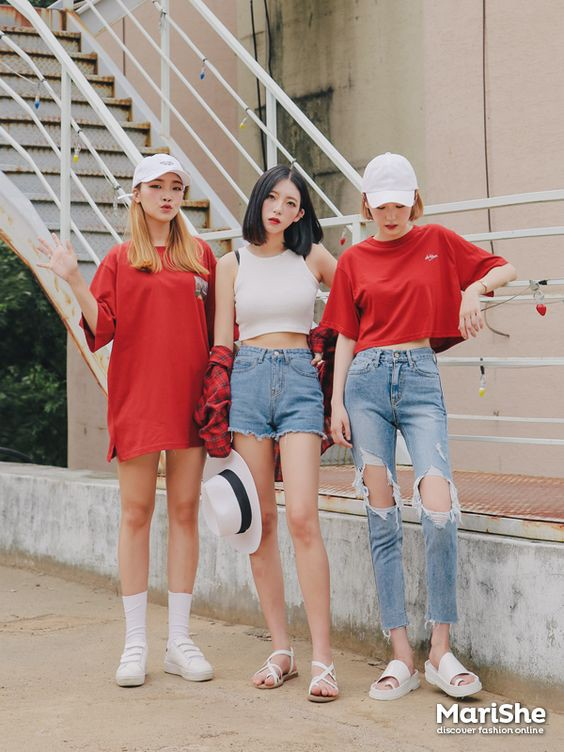people: (340, 153, 491, 703), (234, 159, 351, 699), (103, 152, 214, 680)
